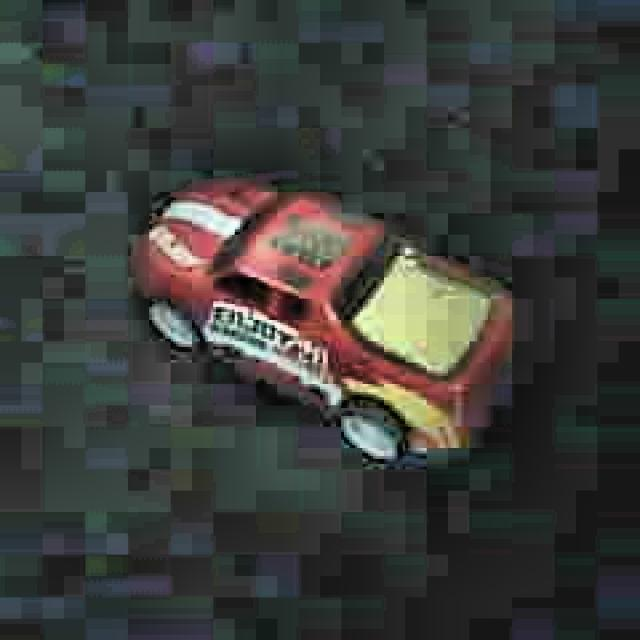car: (138, 171, 514, 460)
